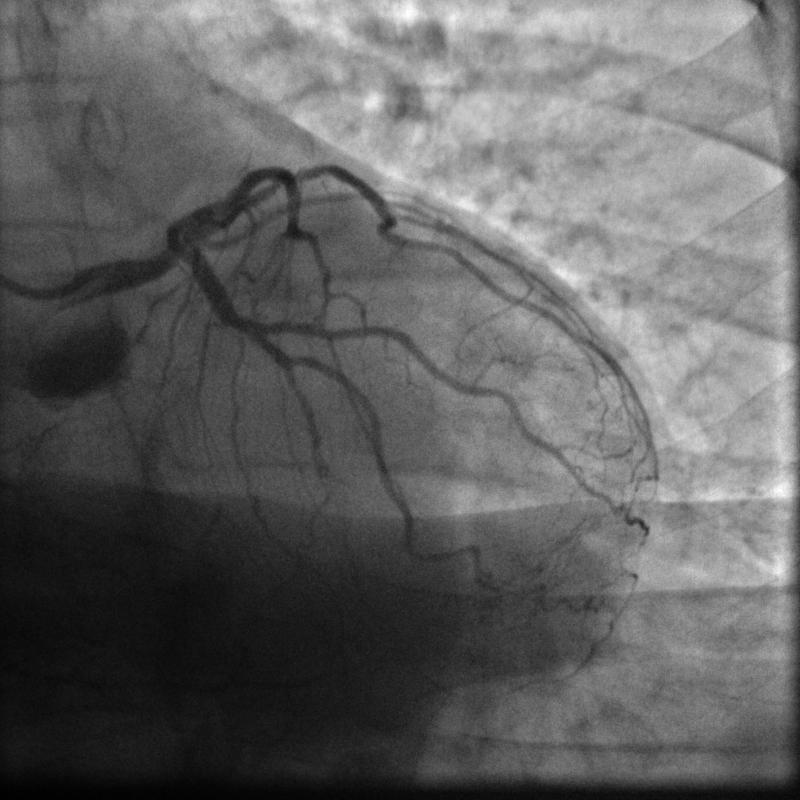Stenosis: (228, 296, 262, 345)
